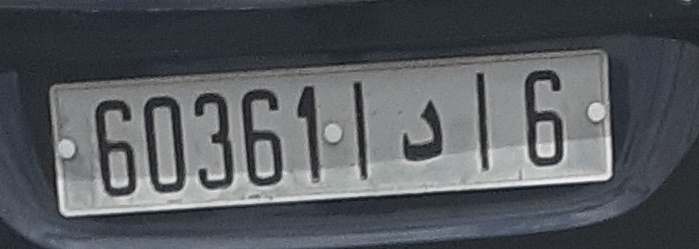0: (141, 91, 186, 196)
1: (293, 79, 326, 188)
3: (191, 86, 234, 195)
6: (89, 93, 139, 201), (239, 79, 287, 188), (522, 65, 571, 167)
d: (392, 92, 453, 170)
